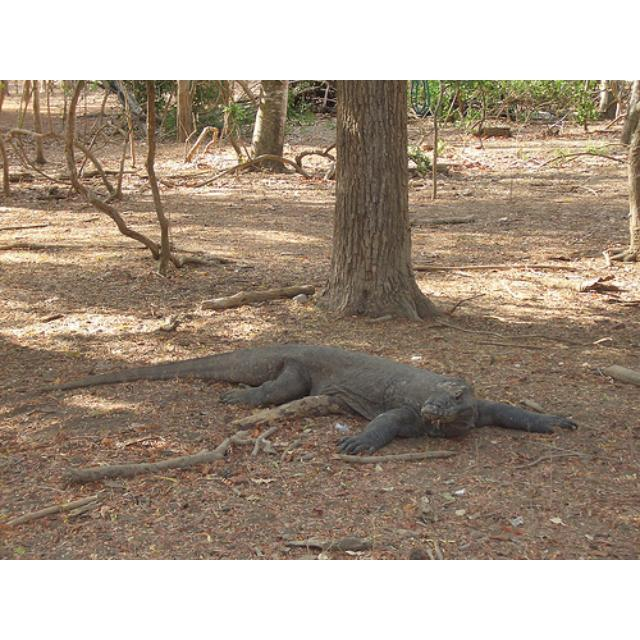KomodoDragon: (36, 342, 580, 457)
